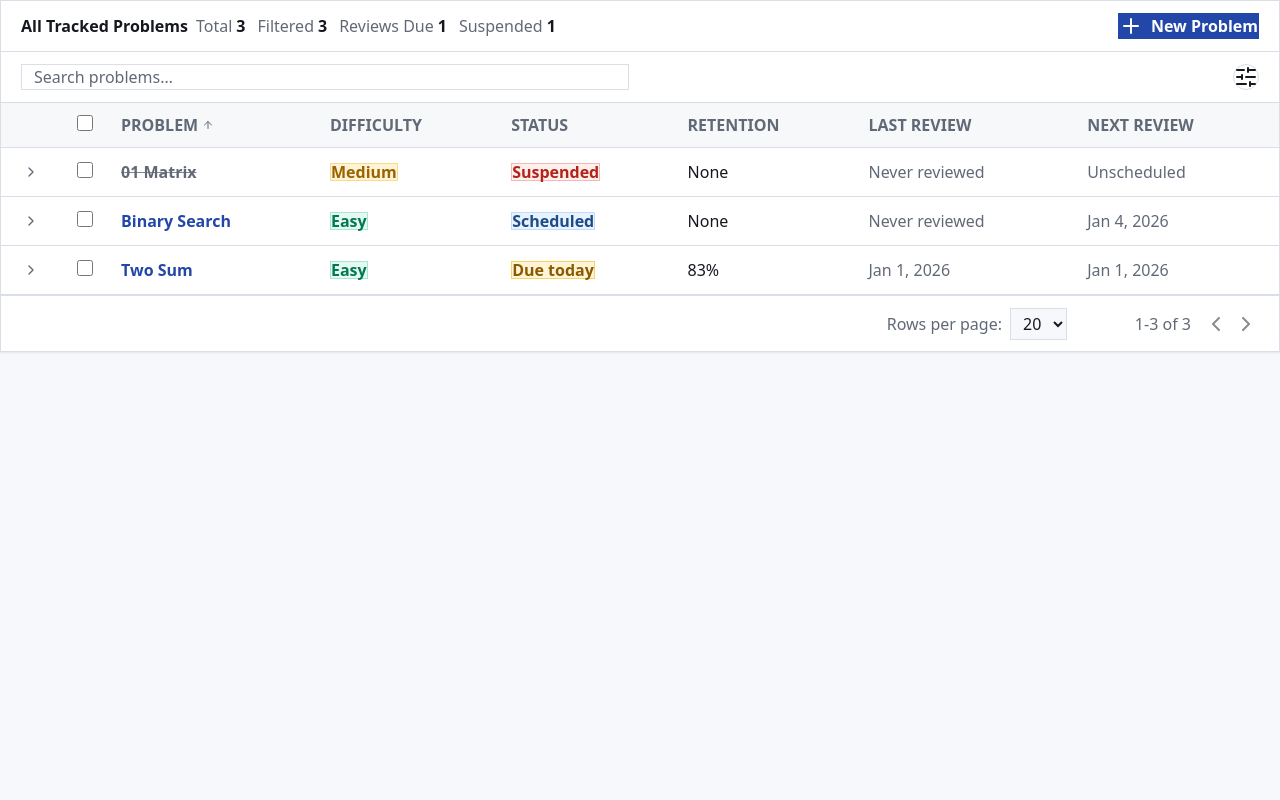
it: ProblemLibraryScreen › disables delete while a practice row action is pending
Click the button named "Expand Two Sum" at (31, 270), box [17,256,45,284]
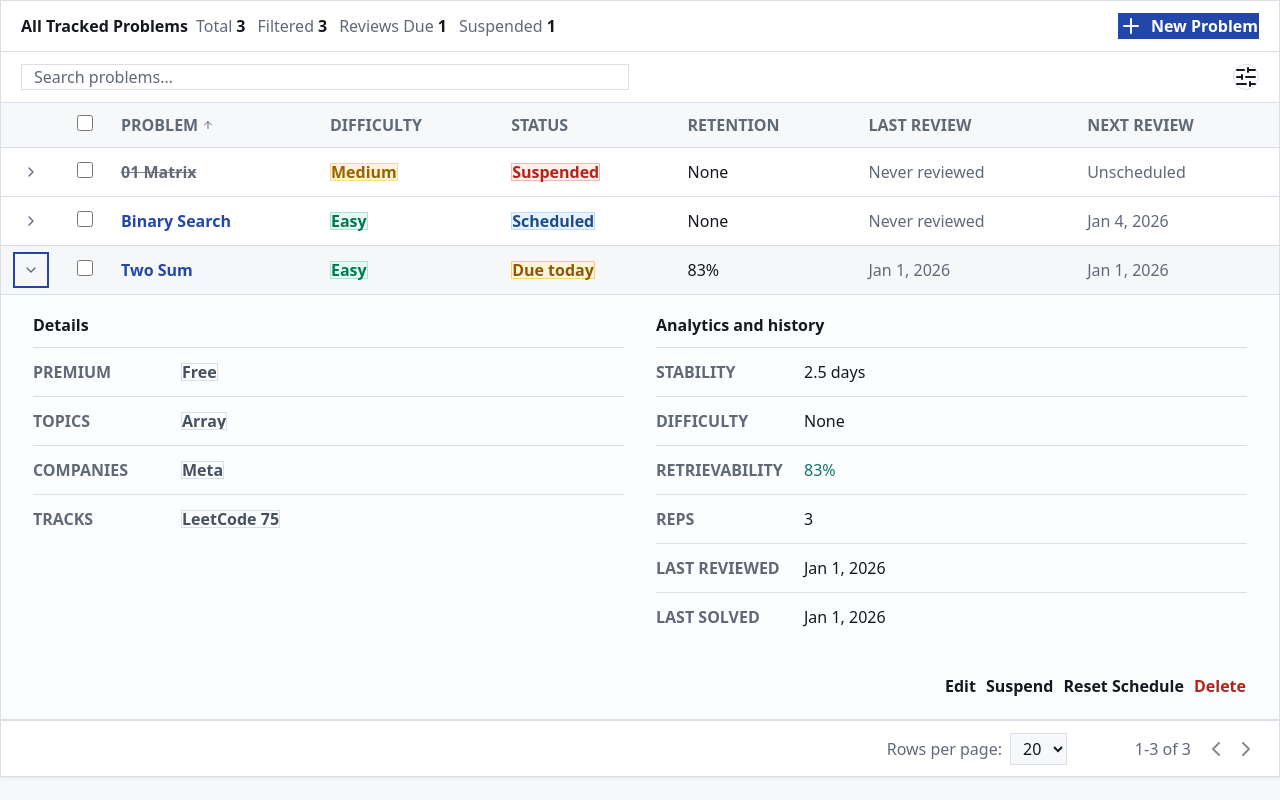
Check: the button "Delete" is enabled, box [1193,673,1247,699]
Click the button "Suspend" at (1020, 686), box [985,673,1054,699]
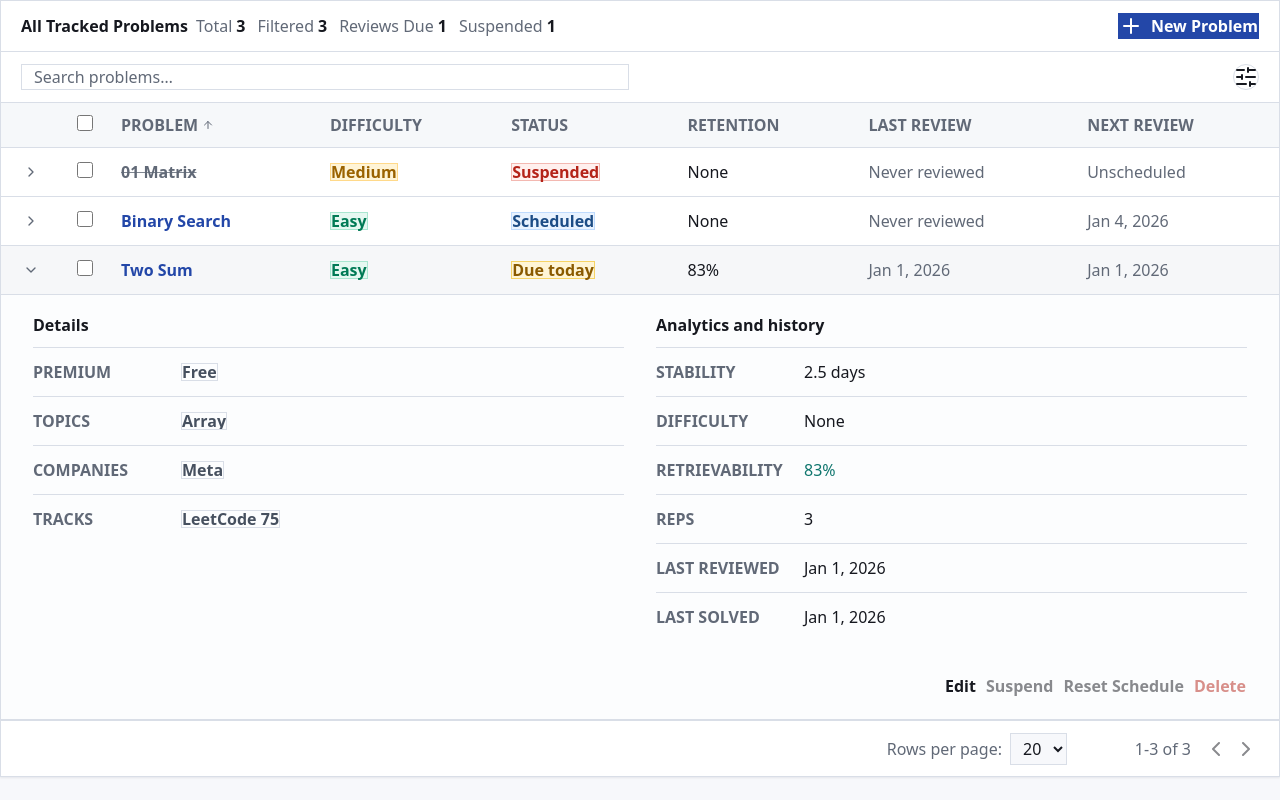
Check: the button "Delete" is disabled, box [1193,673,1247,699]
